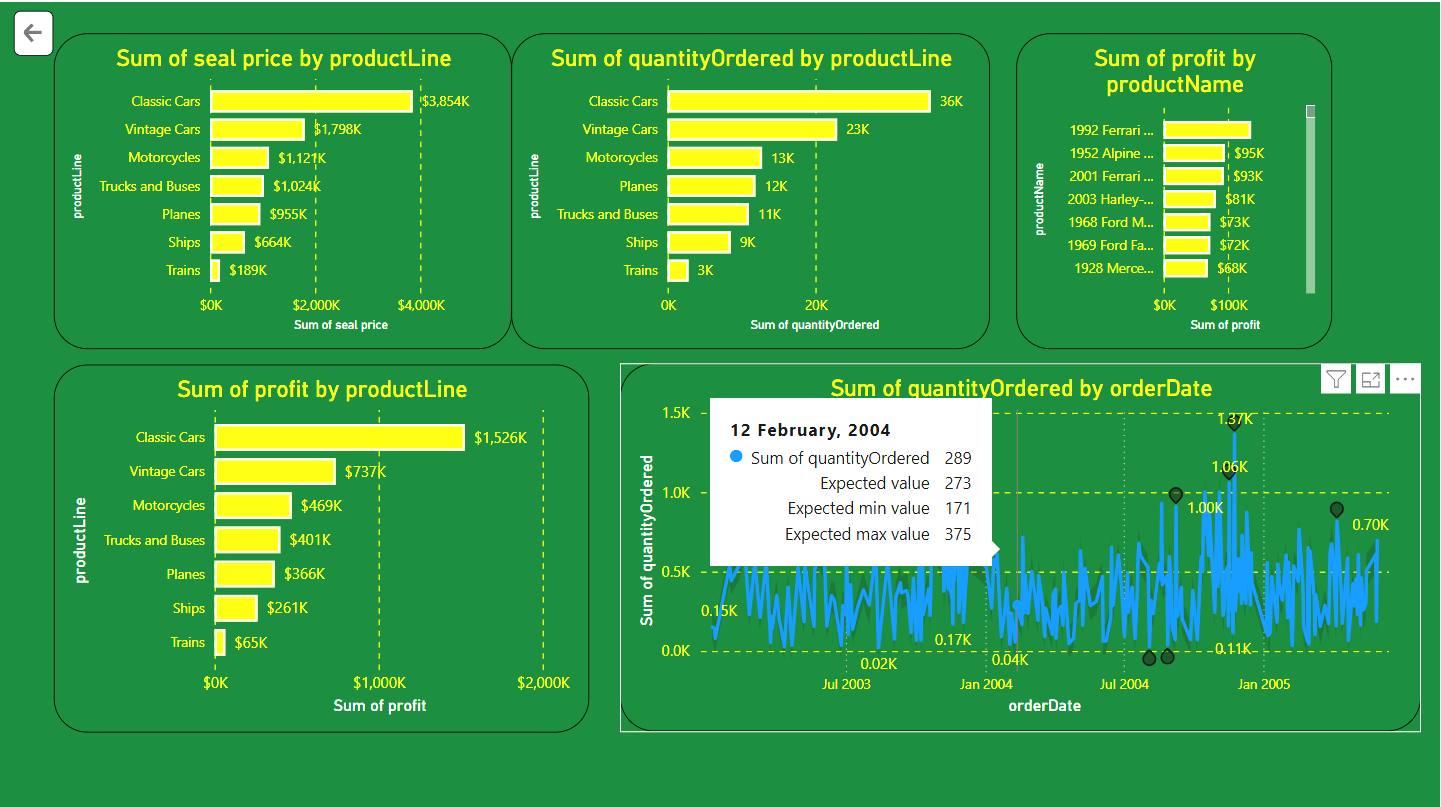

Layout of this report page (visuals, bound fields, positions):
{"tool":"powerbi","page":{"name":"order quantity","canvas":[1280,720],"ordinal":1},"visuals":[{"type":"barChart","fields":{"Category":["products.productLine"],"Y":["Sum(order details.seal price)"]},"box":[47.6,28,407.3,280.5],"z":0},{"type":"barChart","fields":{"Category":["products.productLine"],"Y":["Sum(order details.profit)"]},"box":[47.6,322,475.6,326.8],"z":1000},{"type":"barChart","fields":{"Category":["products.productLine"],"Y":["Sum(order details.quantityOrdered)"]},"box":[454.9,28,425.6,280.5],"z":2000},{"type":"barChart","fields":{"Category":["products.productName"],"Y":["Sum(order details.profit)"]},"box":[903.7,28,280.5,280.5],"z":3000},{"type":"lineChart","fields":{"Y":["Sum(order details.quantityOrdered)"],"Category":["orders.orderDate"]},"box":[551.2,321.4,711.9,327.4],"z":4000},{"type":"actionButton","box":[12.2,7.3,35.4,40.2],"z":5000}]}

Visuals, with their boxes in screenshot pixels (x1, y1, x2, y2), scaled from the page's 1280x720 canvas onto the 1441x807 screenshot:
barChart - products.productLine x Sum(order details.seal price): <bbox>54, 31, 512, 346</bbox>
barChart - products.productLine x Sum(order details.profit): <bbox>54, 361, 589, 727</bbox>
barChart - products.productLine x Sum(order details.quantityOrdered): <bbox>512, 31, 991, 346</bbox>
barChart - products.productName x Sum(order details.profit): <bbox>1017, 31, 1333, 346</bbox>
lineChart - Sum(order details.quantityOrdered) x orders.orderDate: <bbox>621, 360, 1422, 727</bbox>
actionButton: <bbox>14, 8, 54, 53</bbox>
